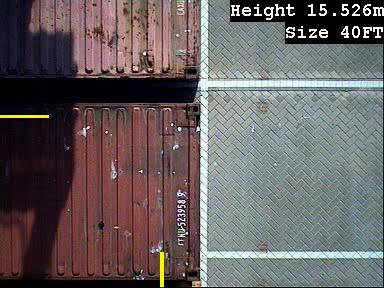groundmarker_2: (200, 222, 249, 288), (198, 52, 244, 118)
